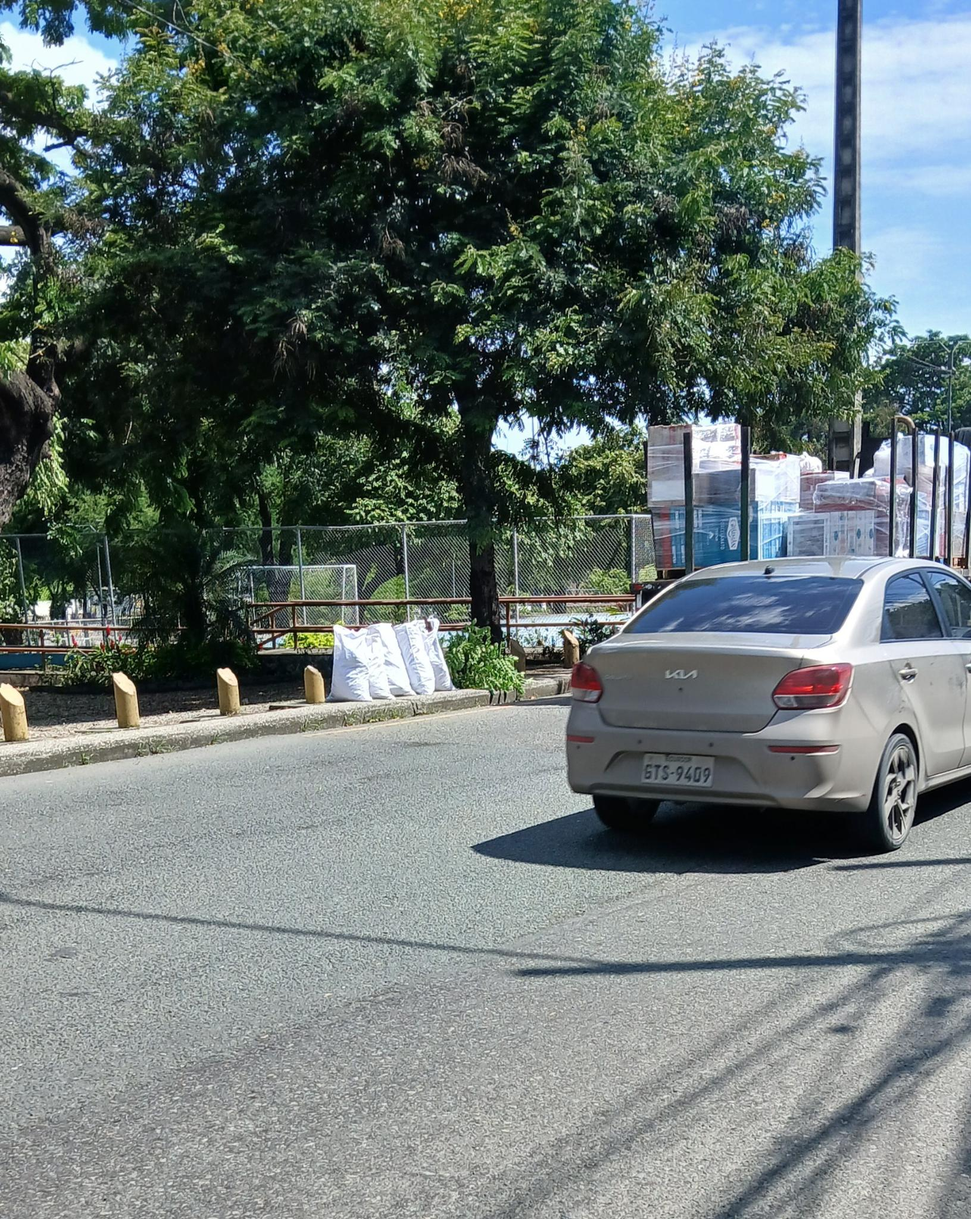license_plate: (641, 754, 714, 787)
